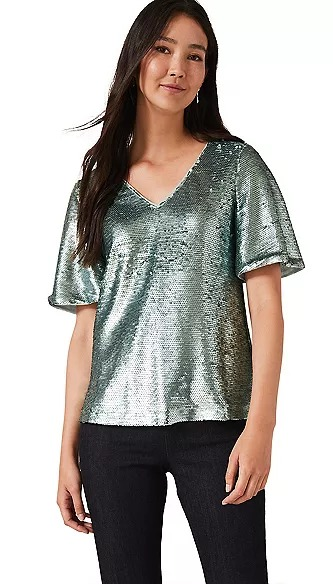C_short blouse: (49, 147, 310, 428)
S_W_pants: (76, 424, 267, 584)
